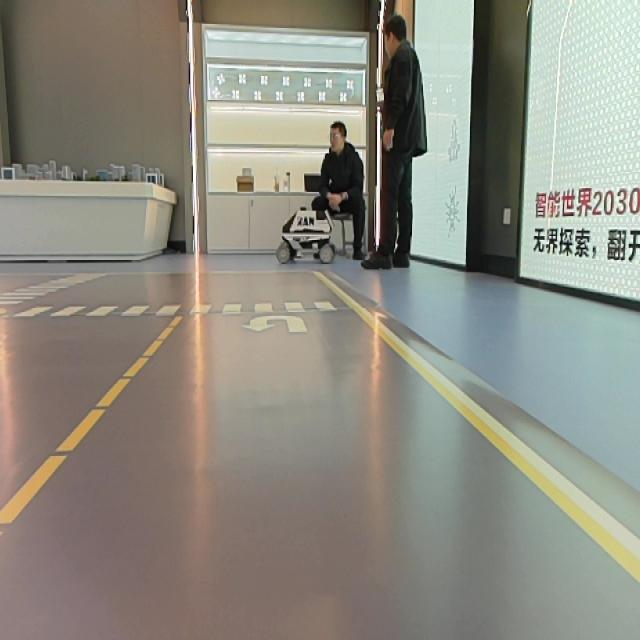left_lane: (0, 309, 182, 532)
right_lane: (323, 273, 640, 577)
